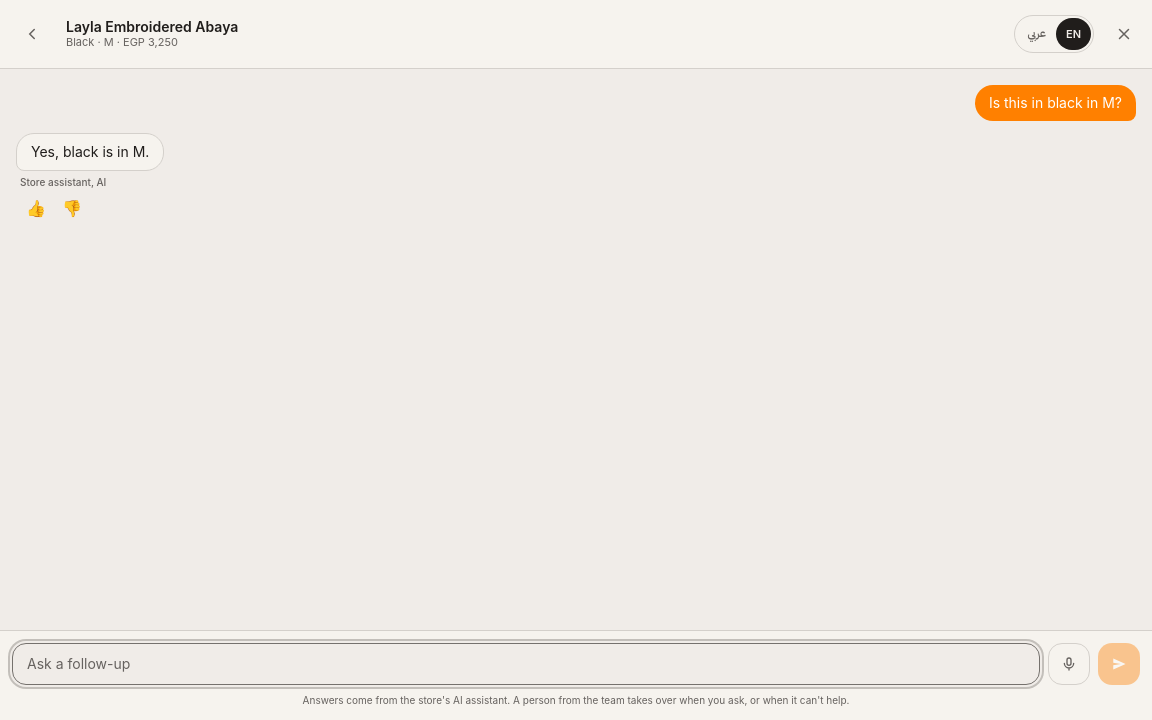
Test case: the v16 panel › shows the piece in the header with a way back home once the conversation is going
This screenshot has width=1152, height=720.
(page scrolled)
Expected: the header shows "Layla Embroidered Abaya", x1=66 y1=18 x2=238 y2=35
Expected: the text "Store assistant, AI" is shown, x1=16 y1=175 x2=110 y2=190
Click the button named "Back to chat home" at (32, 34), box x1=10 y1=12 x2=54 y2=56
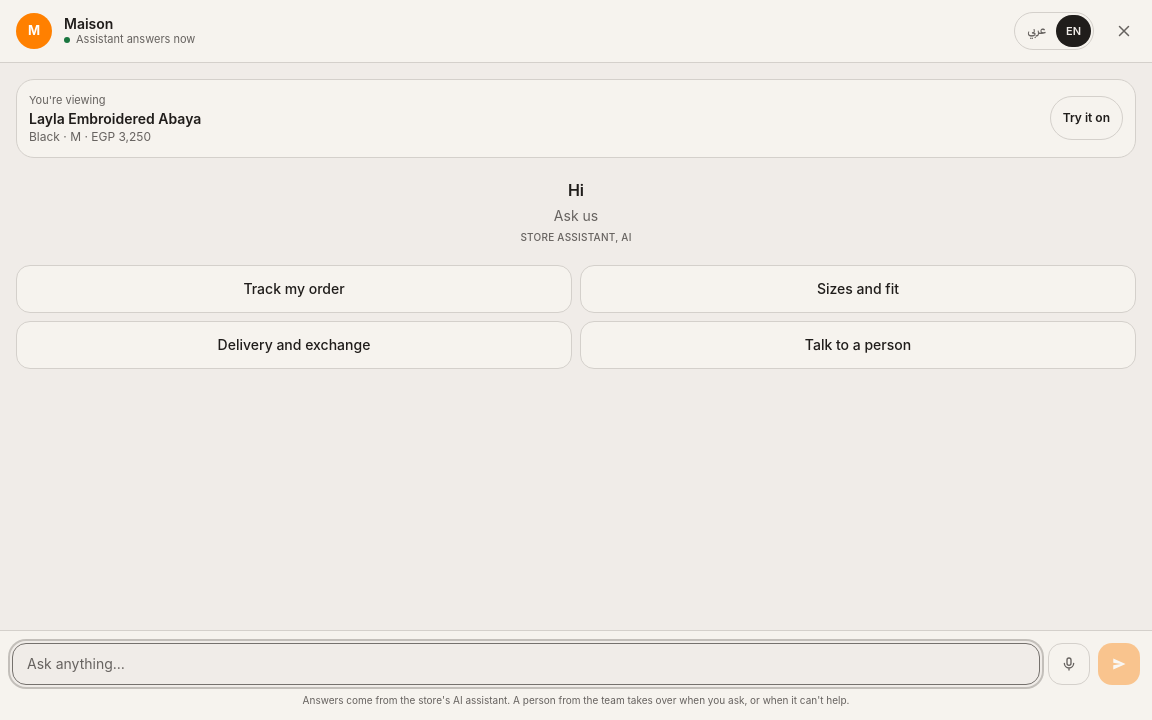
Now the button "Track my order" is shown, box x1=16 y1=264 x2=572 y2=312
Now the text "Yes, black is in M." is gone
